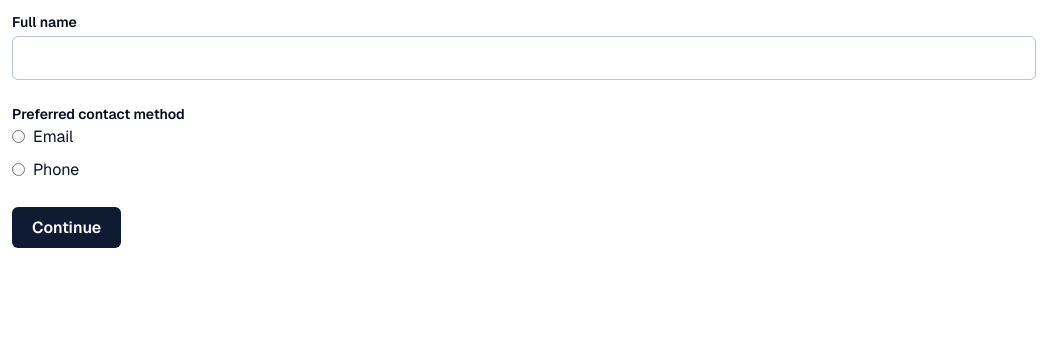
CA-2 Step 1 has exactly 3 required fields › exposes 3 semantic fields when a contact method is selected (fullName + radiogroup + 1 conditional)
Click the radio button labelled "Email": coordinates (18, 136) [12, 130, 25, 143]
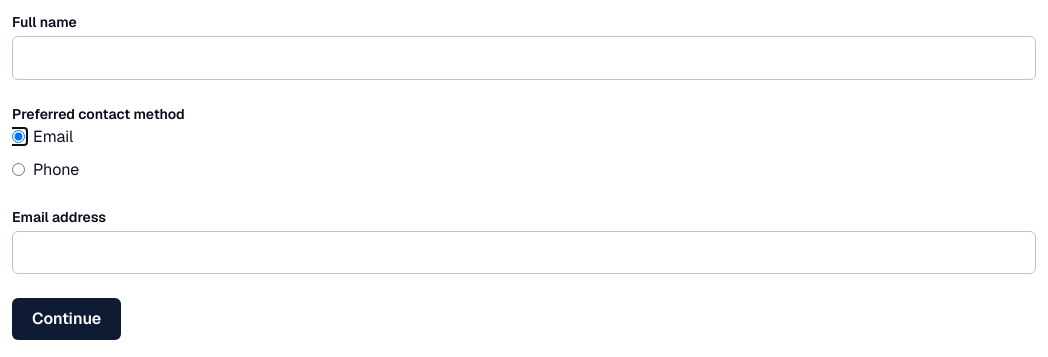
expect the field labelled "Full name" is shown: met, box [12, 36, 1036, 80]
expect the field labelled "Email address" is shown: met, box [12, 231, 1036, 274]
